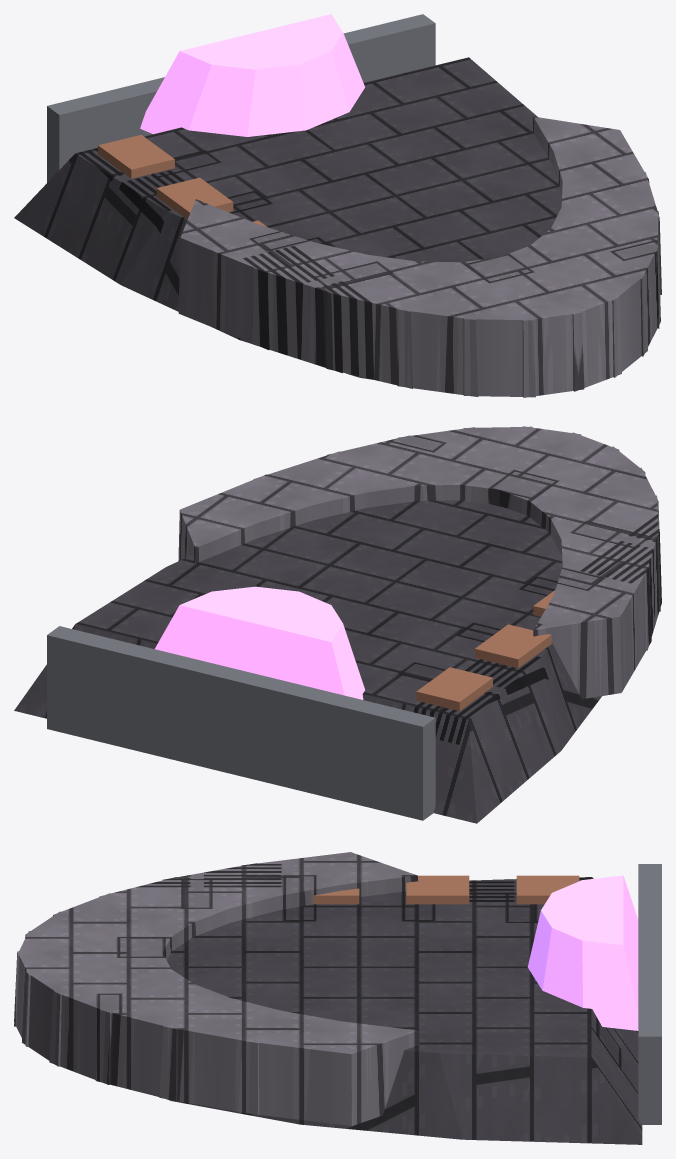
Rendered from twin_iris.glb.
3 views of the same model, one above another, from view 1: azimuth 30°, elevation 25°; view 2: azimuth 150°, elevation 25°; view 3: azimuth 270°, elevation 25° (orthographic). The views are drawn at different scales.
Bounding box in the file's own units: 32 × 9 × 41.2.
5 materials, 2 textured.
